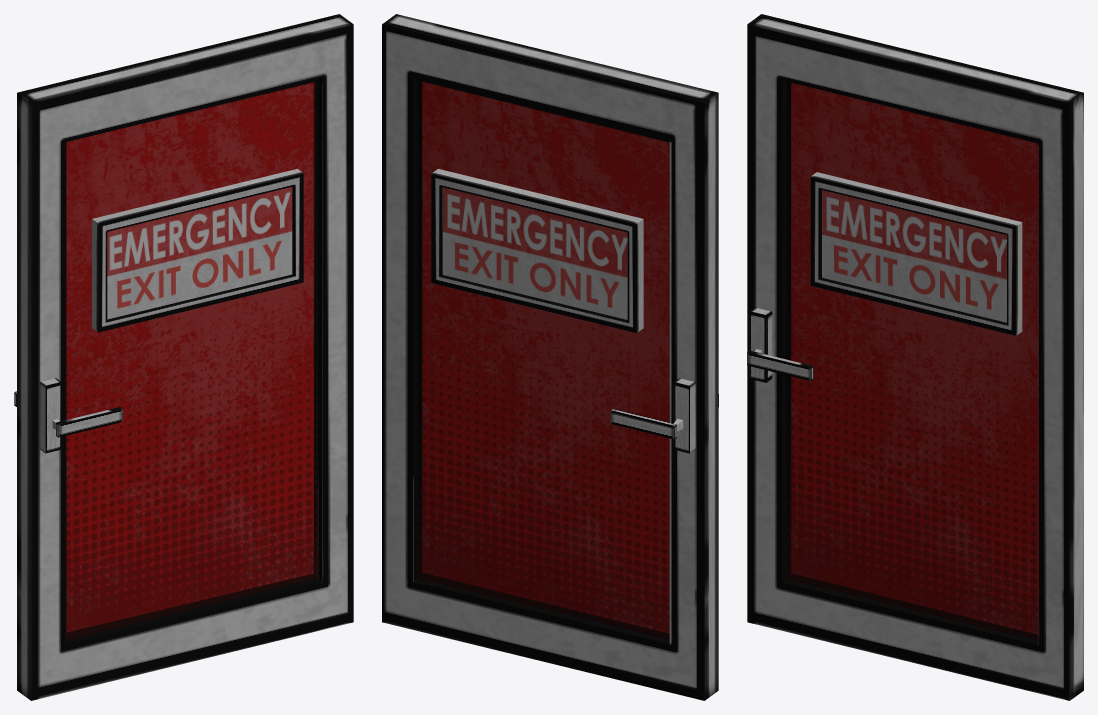
File: Emergency Door.glb
The picture shows the model from 3 angles, left to right: view 1: azimuth 30°, elevation 25°; view 2: azimuth 150°, elevation 25°; view 3: azimuth 330°, elevation 25°; orthographic projection.
Visible parts, largest first — view 1: Emergency_Door, Emergency_Door_Handle; view 2: Emergency_Door, Emergency_Door_Handle; view 3: Emergency_Door, Emergency_Door_Handle.
Part boxes in pixels (x1,y1,x2,y2): Emergency_Door: (17,14,353,700); Emergency_Door_Handle: (14,391,122,437); Emergency_Door: (382,14,718,700); Emergency_Door_Handle: (610,394,718,439); Emergency_Door: (747,14,1083,700); Emergency_Door_Handle: (747,350,813,380).
Bounding box in the file's own units: 11.89 × 21.06 × 2.82.
1 material, 1 textured.
